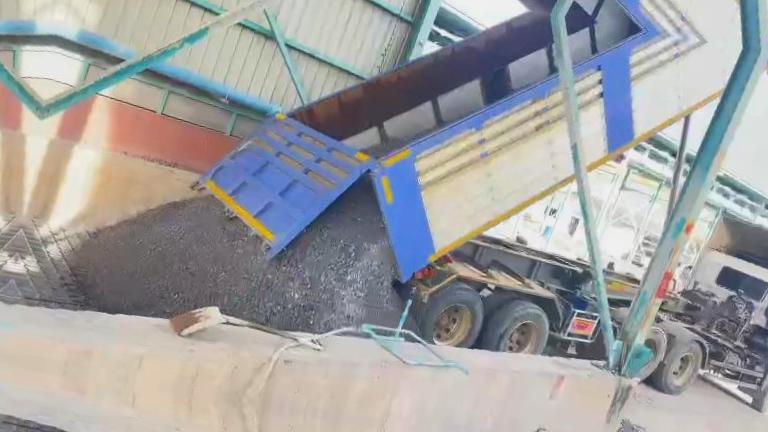gravel: (69, 179, 403, 332), (362, 125, 430, 156), (588, 420, 702, 432)
